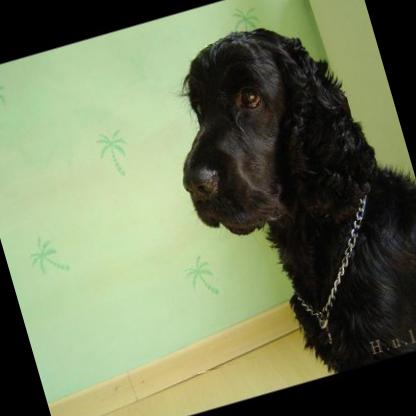cocker_spaniel: (144, 0, 416, 401)
